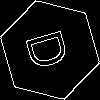D: (25, 25, 78, 72)
